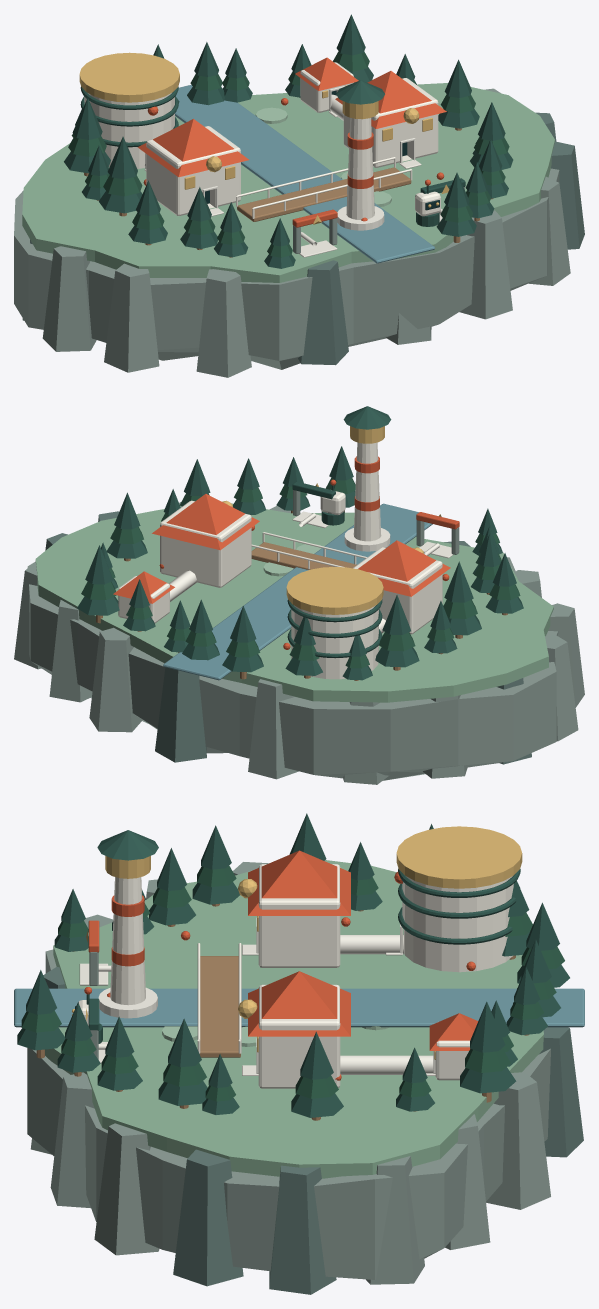
File: chapter-12.glb
The picture shows the model from 3 angles, top to bottom: view 1: azimuth 30°, elevation 25°; view 2: azimuth 150°, elevation 25°; view 3: azimuth 270°, elevation 25°; orthographic projection. The views are drawn at different scales.
Parts seen in each view (by area): view 1: terrain, rock_base, cove_river, cliff_facet_10, cliff_facet_11, cliff_facet_09, vault_cap_0, landmark_connection, cliff_facet_12, cliff_facet_14, roof_connection, landmark_history_0 (+35 smaller); view 2: rock_base, terrain, cove_river, landmark_connection.001, cliff_facet_04, cliff_facet_03, vault_cap_0, cliff_facet_05, landmark_history_0, roof_connection.001, landmark_connection, roof_connection (+30 smaller); view 3: terrain, rock_base, cove_river, landmark_history_0, cliff_facet_16, vault_cap_0, cliff_facet_00, cliff_facet_03, landmark_connection, cliff_facet_15, roof_connection, roof_connection.001 (+42 smaller).
Part boxes in pixels (<box>): terrain: <box>22,83,554,282</box>; rock_base: <box>14,168,559,369</box>; cove_river: <box>175,84,434,263</box>; cliff_facet_10: <box>104,263,159,372</box>; cliff_facet_11: <box>196,269,251,377</box>; cliff_facet_09: <box>42,246,96,351</box>; vault_cap_0: <box>79,52,179,102</box>; landmark_connection: <box>146,126,240,215</box>; cliff_facet_12: <box>298,260,348,365</box>; cliff_facet_14: <box>459,210,512,319</box>; roof_connection: <box>137,119,248,177</box>; landmark_history_0: <box>84,93,174,168</box>; rock_base: <box>27,557,558,780</box>; terrain: <box>35,503,553,702</box>; cove_river: <box>163,503,432,680</box>; landmark_connection.001: <box>160,500,251,587</box>; cliff_facet_04: <box>155,667,206,762</box>; cliff_facet_03: <box>89,627,142,732</box>; vault_cap_0: <box>286,567,383,614</box>; cliff_facet_05: <box>248,679,298,779</box>; landmark_history_0: <box>291,605,378,679</box>; roof_connection.001: <box>152,494,259,550</box>; landmark_connection: <box>353,547,442,634</box>; roof_connection: <box>357,540,450,596</box>; terrain: <box>45,860,543,1178</box>; rock_base: <box>27,949,550,1279</box>; cove_river: <box>14,988,584,1027</box>; landmark_history_0: <box>402,876,513,972</box>; cliff_facet_16: <box>173,1149,243,1286</box>; vault_cap_0: <box>396,826,522,888</box>; cliff_facet_00: <box>269,1165,336,1294</box>; cliff_facet_03: <box>486,1072,550,1209</box>; landmark_connection: <box>258,864,340,967</box>; cliff_facet_15: <box>94,1123,159,1255</box>; roof_connection: <box>248,850,350,915</box>; roof_connection.001: <box>248,971,350,1036</box>.
Bounding box in the file's own units: 13.51 × 6.21 × 10.
